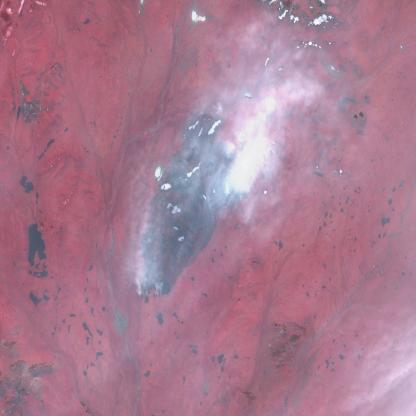fire: (222, 140, 251, 221), (136, 276, 164, 309)
